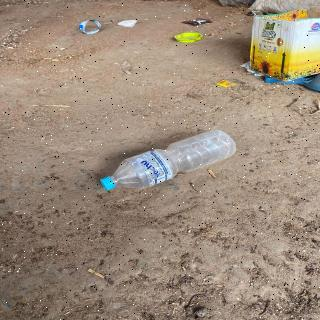Plastic-bottle: (96, 128, 240, 196)
